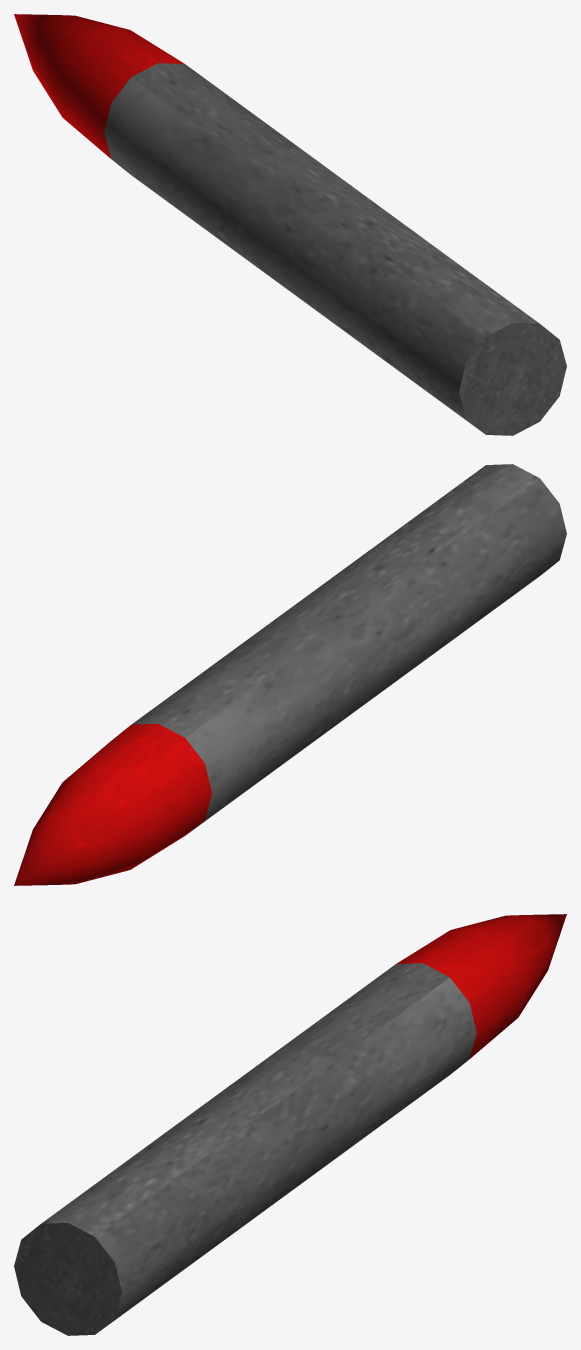
Rendered from missile_01.obj.
3 renders of one model, top to bottom at view 1: azimuth 30°, elevation 25°; view 2: azimuth 150°, elevation 25°; view 3: azimuth 330°, elevation 25°, orthographic.
Parts seen in each view (by area): view 1: missile_01; view 2: missile_01; view 3: missile_01.
Boxes of the visible parts, <box> form: missile_01: <box>14,14,566,435</box>; missile_01: <box>14,464,566,885</box>; missile_01: <box>14,914,566,1335</box>.
Bounding box in the file's own units: 17.76 × 17.76 × 142.
